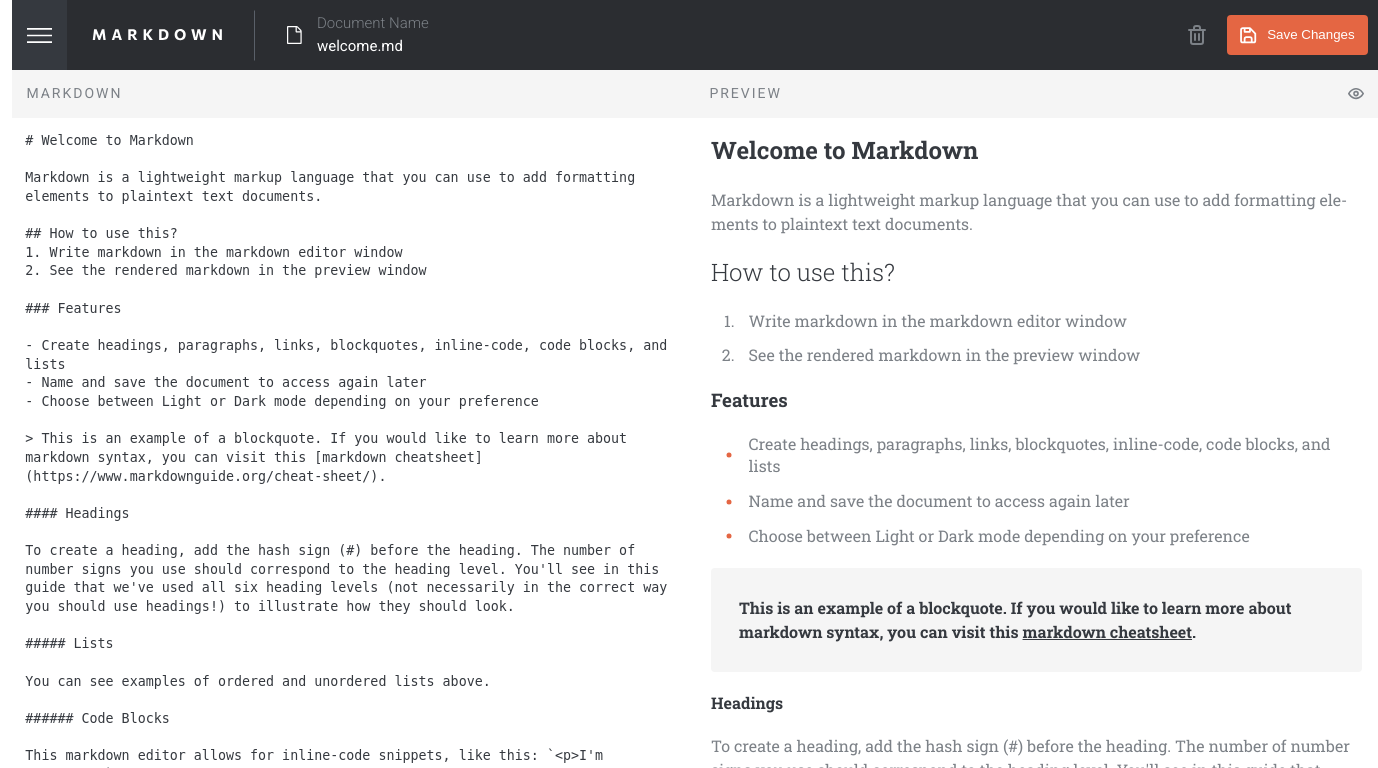
testing markdown syntax › bold text rendered
Focus the text box with test id "markdownTextArea" at (354, 443), box [12,118,695,767]
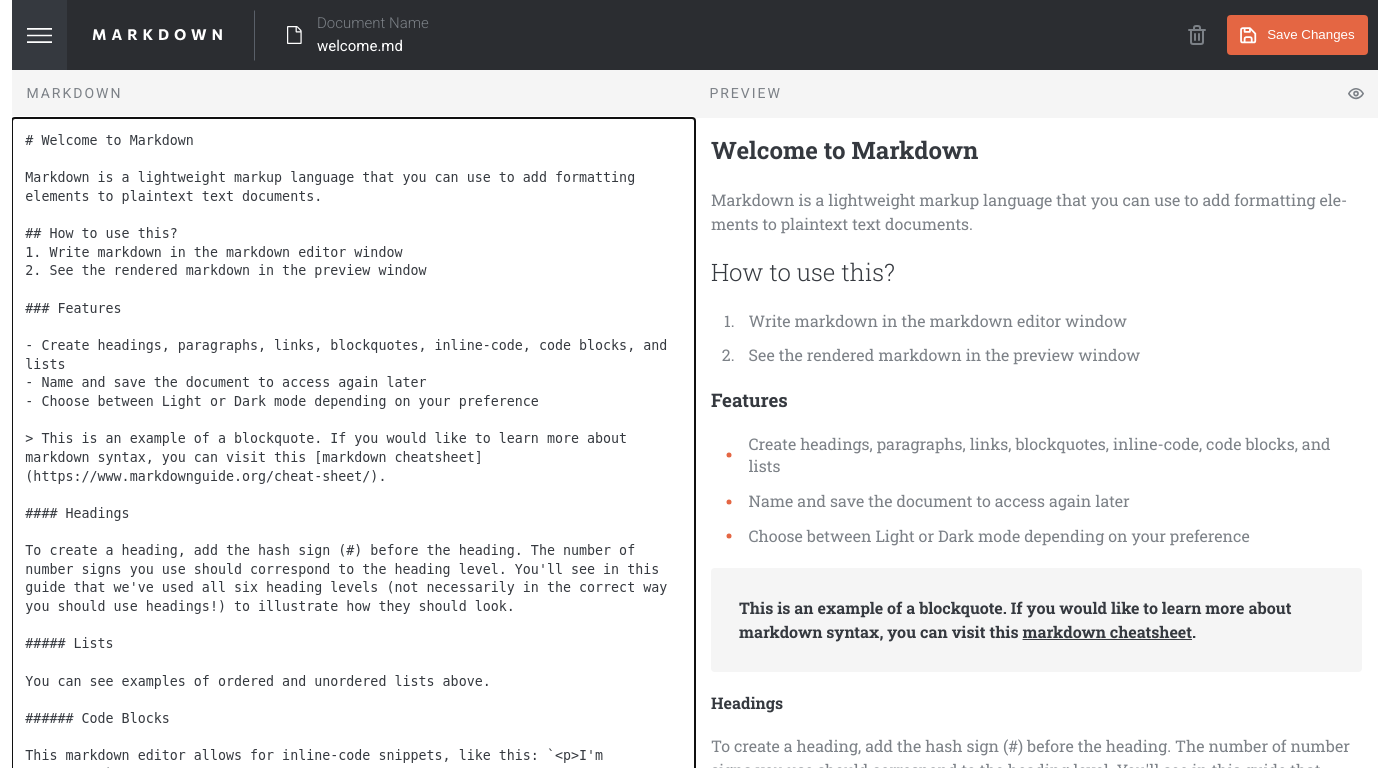
Press Selectall Backspace in the text box with test id "markdownTextArea", box [12,118,695,767]
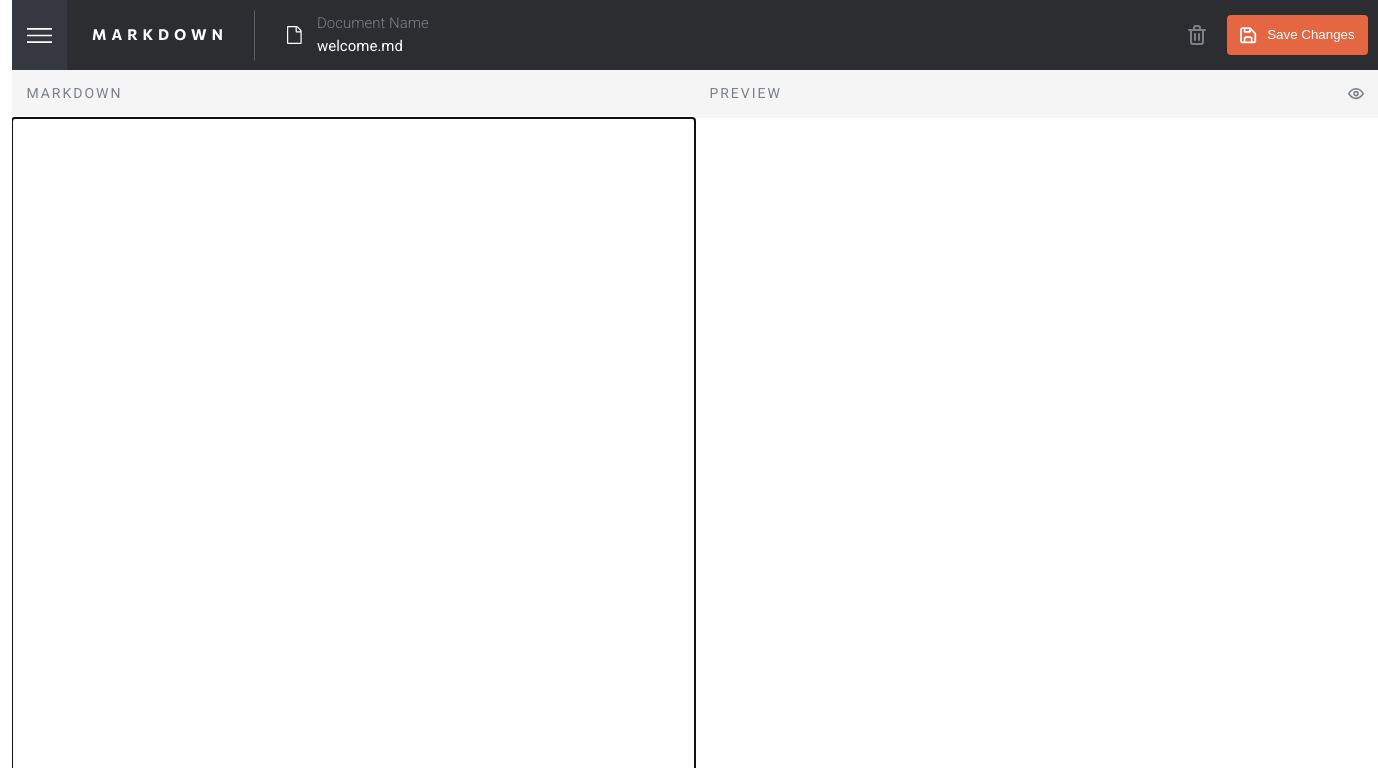
Type "Creating bold text **here**" into the text box with test id "markdownTextArea" at (354, 443), box [12,118,695,767]
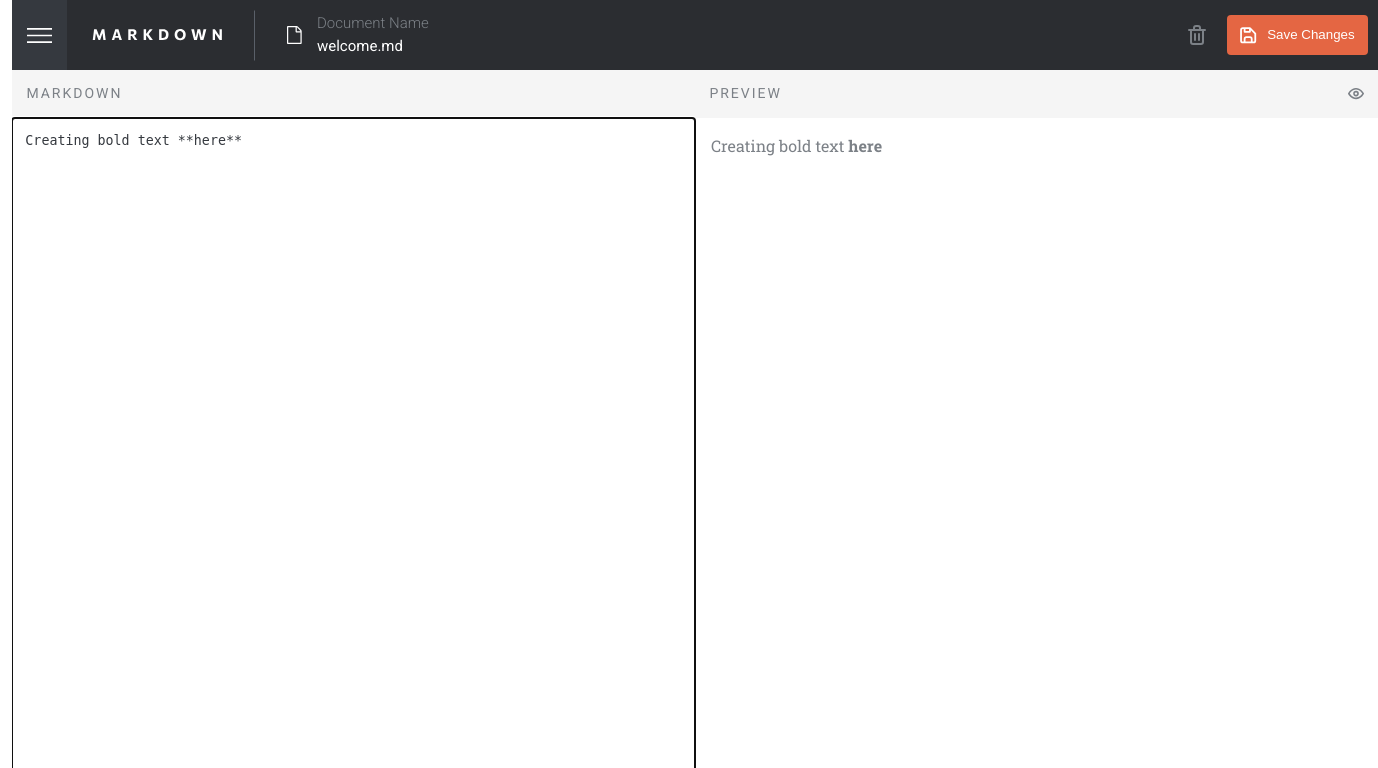
Expected: the text "here" is shown, [848,135,882,156]
